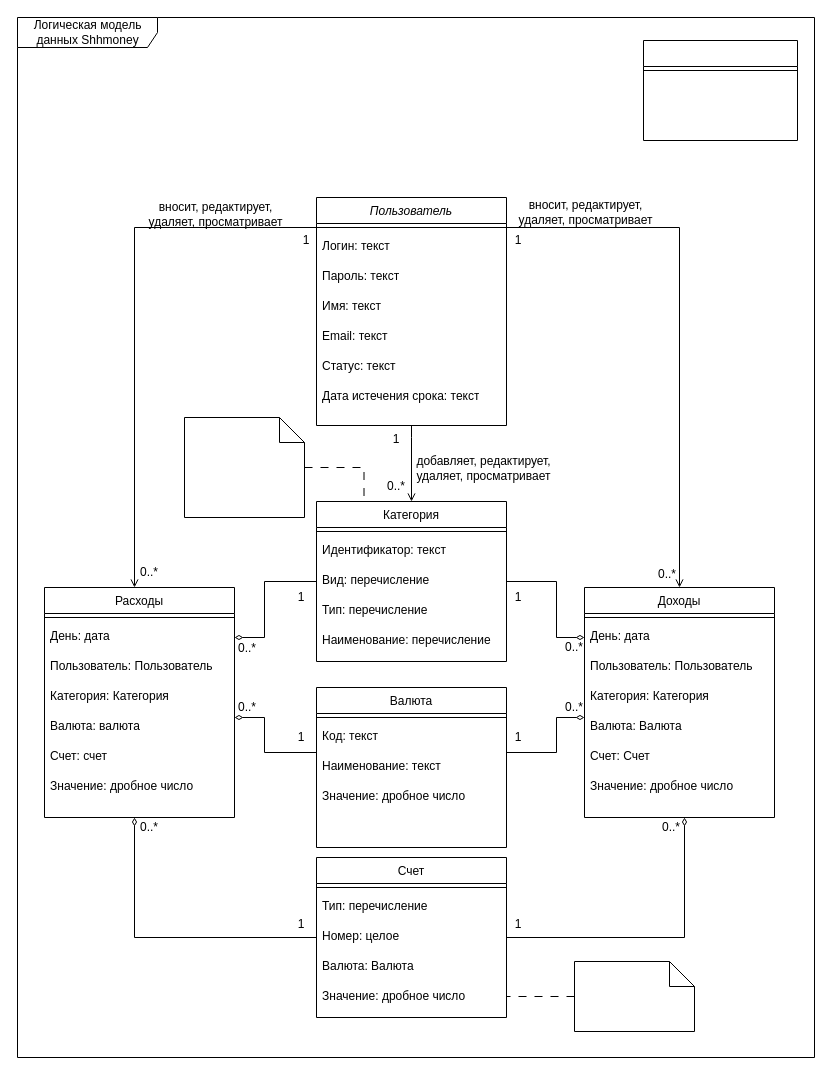
Image size: 832x1075. Some labels were removed from this diagram. Each missing label, with the centre of its shape:
"вид: расходы, доходы тип: стандартный, личный" belongs at (244,467).
"Статьи" belongs at (720,90).
"тип: наличные, платежная карта" belongs at (634,996).
